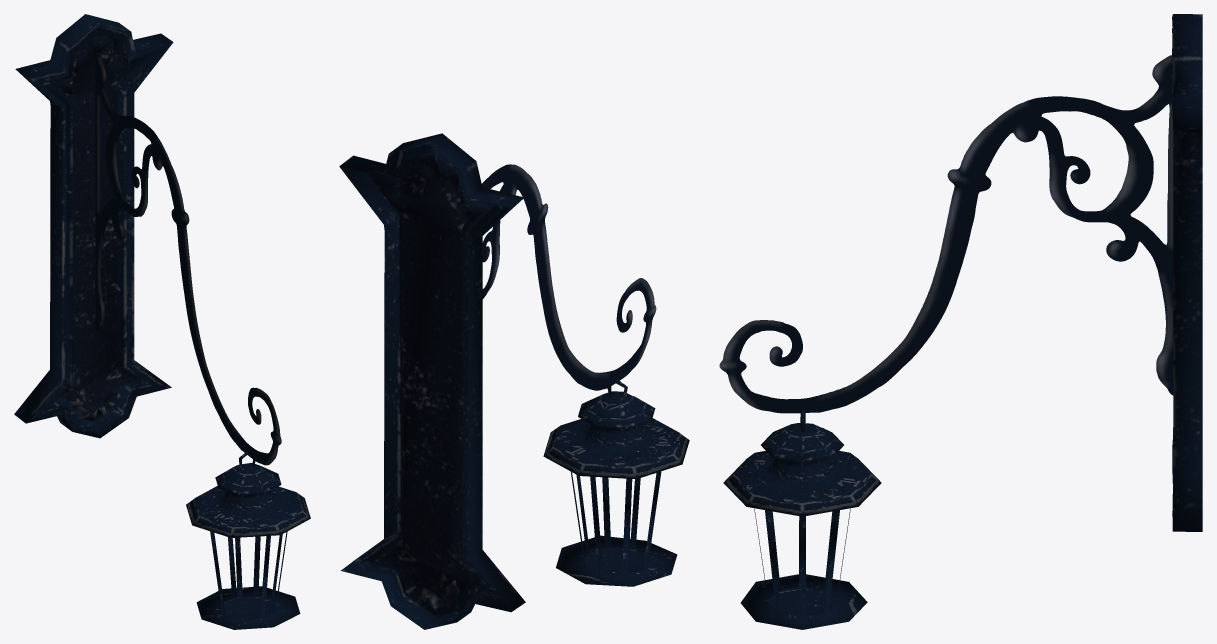
Rendered from lamp.FBX.
3 views of the same model, side by side, from view 1: azimuth 30°, elevation 25°; view 2: azimuth 150°, elevation 25°; view 3: azimuth 270°, elevation 25° (orthographic). The views are drawn at different scales.
Parts seen in each view (by area): view 1: Group50611; view 2: Group50611; view 3: Group50611.
Boxes of the visible parts, <box> form: Group50611: <box>14,14,310,629</box>; Group50611: <box>339,133,689,629</box>; Group50611: <box>719,14,1202,629</box>.
Size of the model in its own units: 456 by 1417 by 1050.
Materials: 1 (1 with a texture image).
